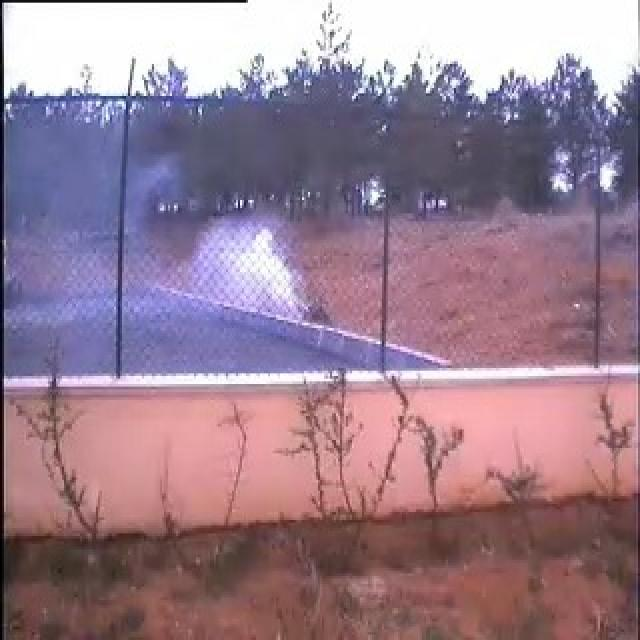smoke: (124, 187, 308, 375)
